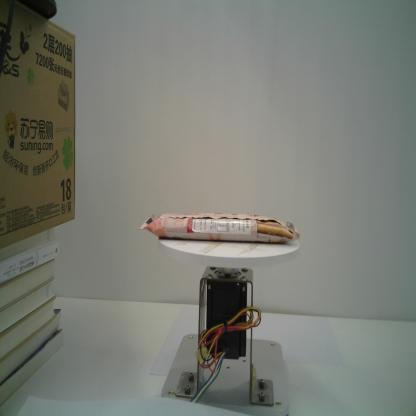Dessert: (139, 211, 303, 250)
